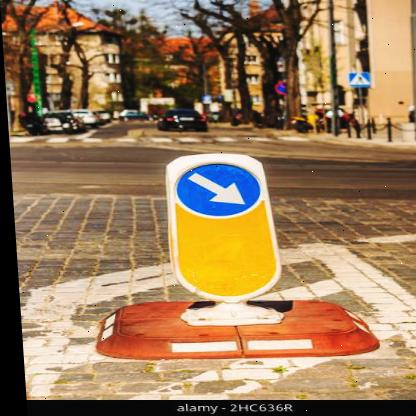Keep right: (166, 158, 269, 219)
